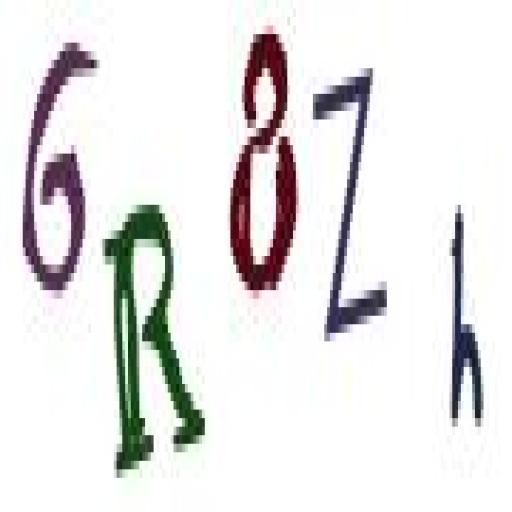6: (15, 16, 105, 322)
8: (223, 6, 298, 316)
R: (99, 187, 208, 493)
Z: (307, 56, 398, 356)
h: (442, 183, 487, 451)
